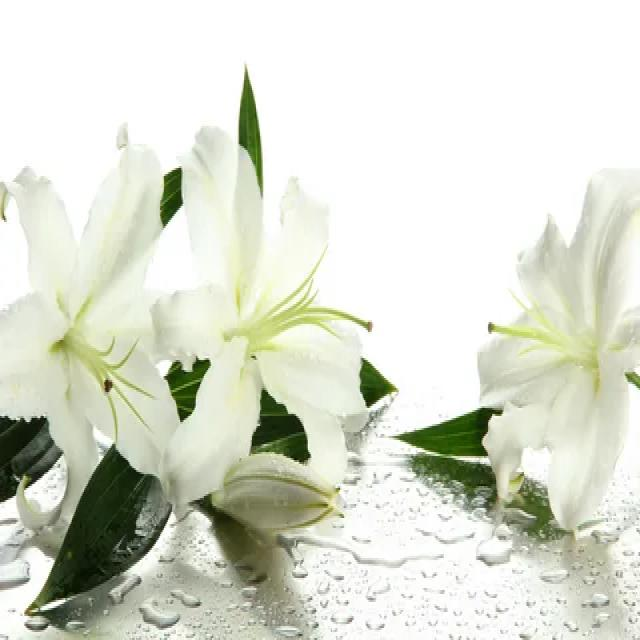lily: (458, 153, 640, 548)
